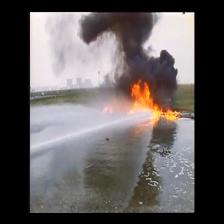fire: (129, 82, 180, 118)
smoke: (84, 13, 175, 78)
